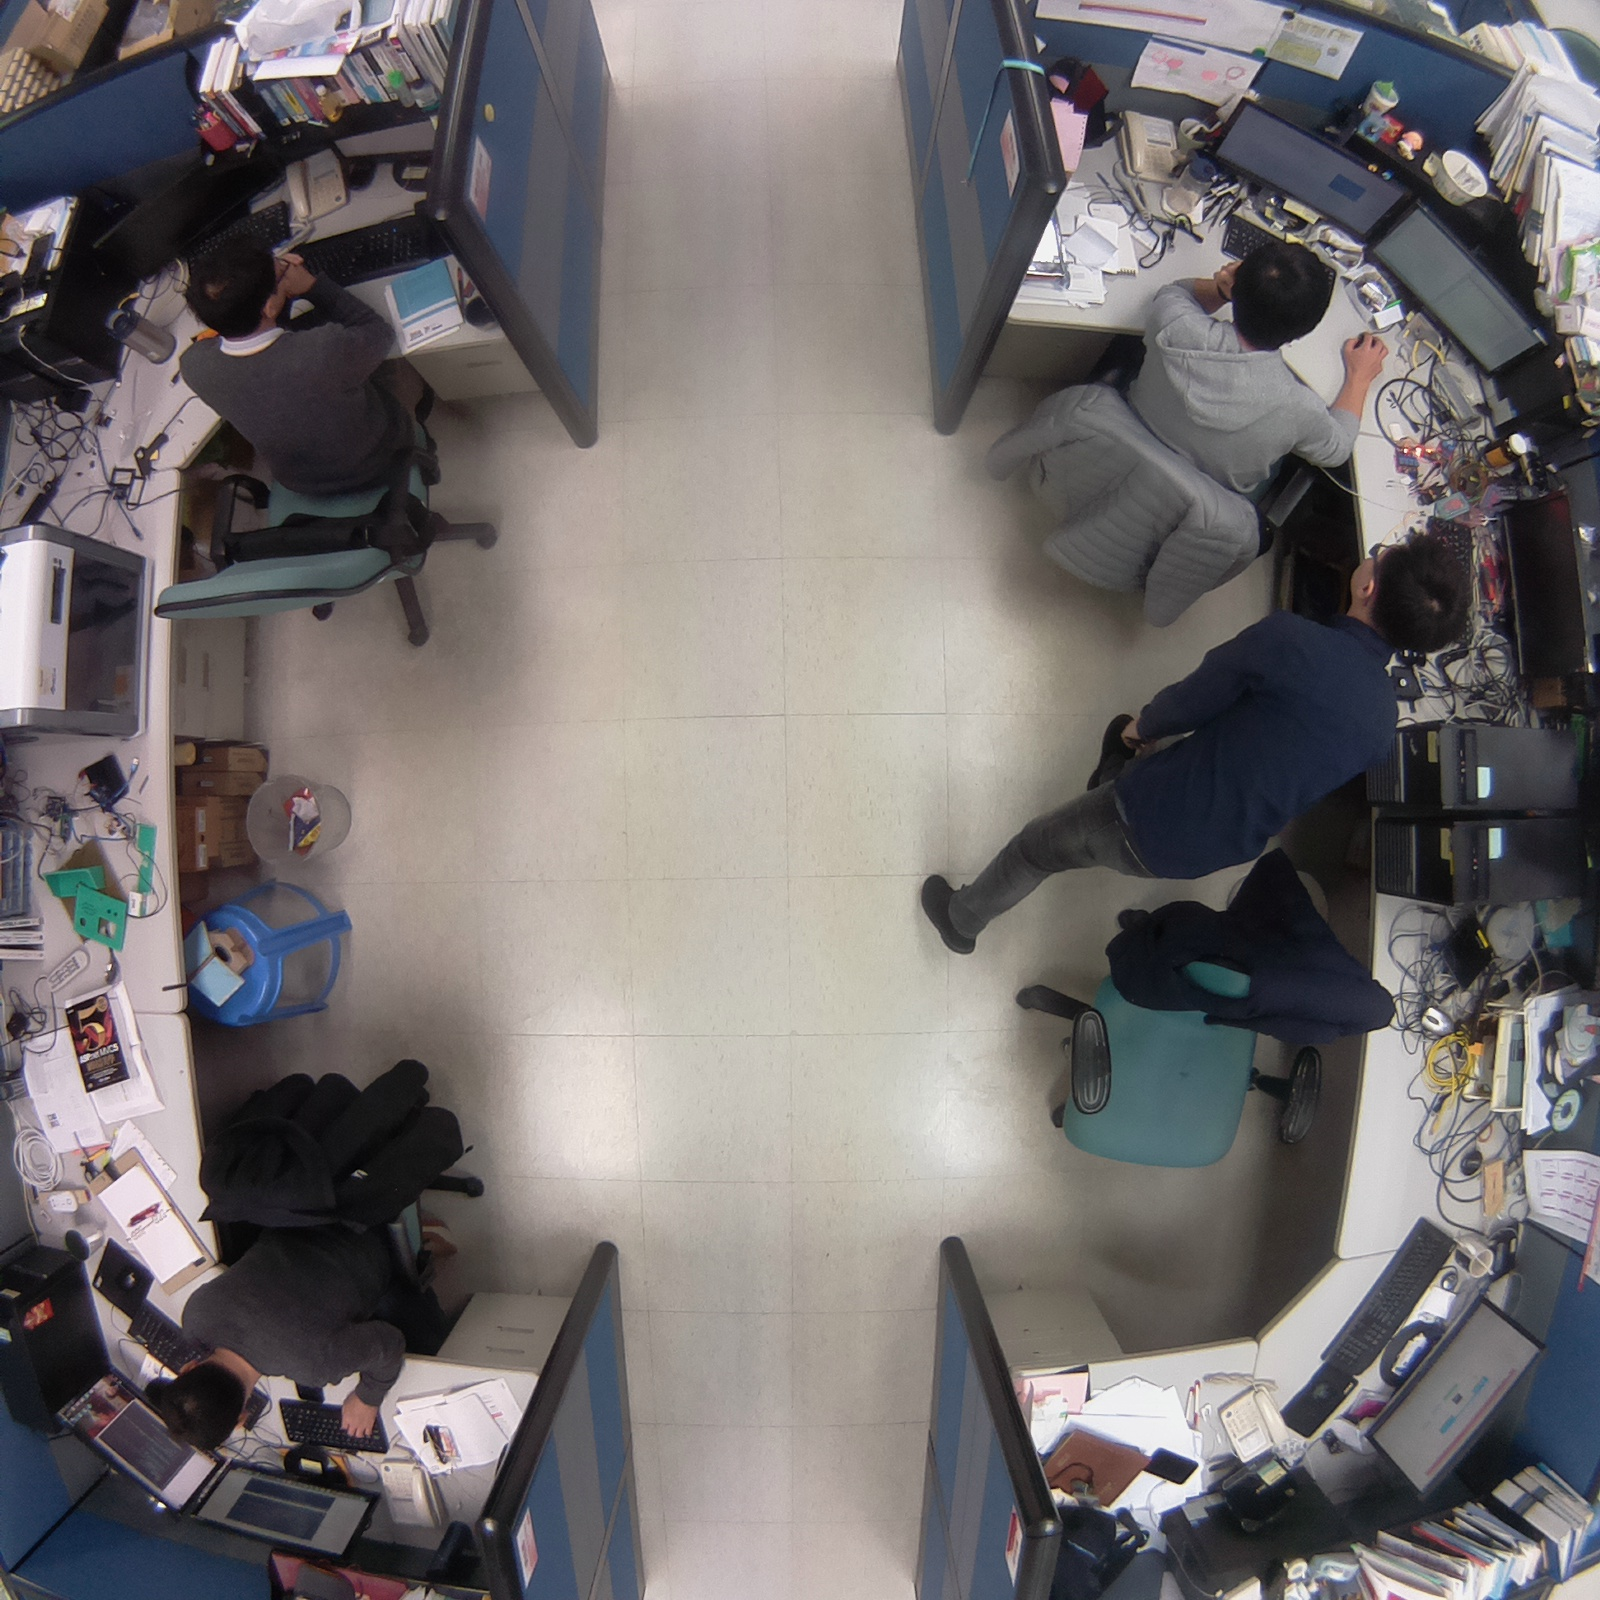chair: (996, 873, 1399, 1186)
head: (1346, 529, 1476, 663), (1221, 236, 1338, 353), (178, 229, 289, 340), (155, 1351, 255, 1455)
sitting: (968, 232, 1391, 640), (132, 234, 519, 678), (153, 1040, 512, 1447)
standing: (901, 535, 1487, 983)
